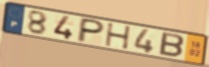4: (132, 28, 155, 54), (52, 15, 74, 41)
8: (27, 10, 49, 36)
B: (157, 31, 186, 59)
H: (105, 22, 133, 51)
P: (75, 17, 107, 44)
